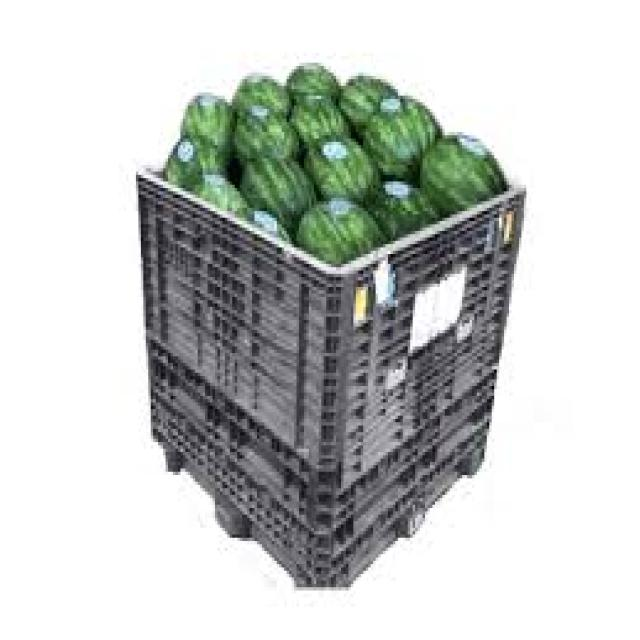basket: (124, 175, 526, 595)
